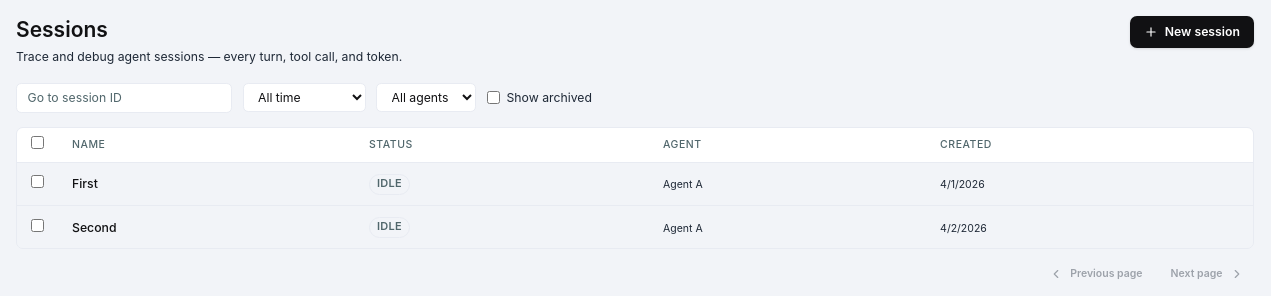
SessionsListPage › selectAll checks every row and Archive N reflects the count
Expected: the text "First" is shown, [72, 176, 98, 191]
What coordinates should you click on to do the following:
click the checkbox named "Select all rows"
I would click on:
 (38, 143)
Its box is [31, 136, 44, 149].
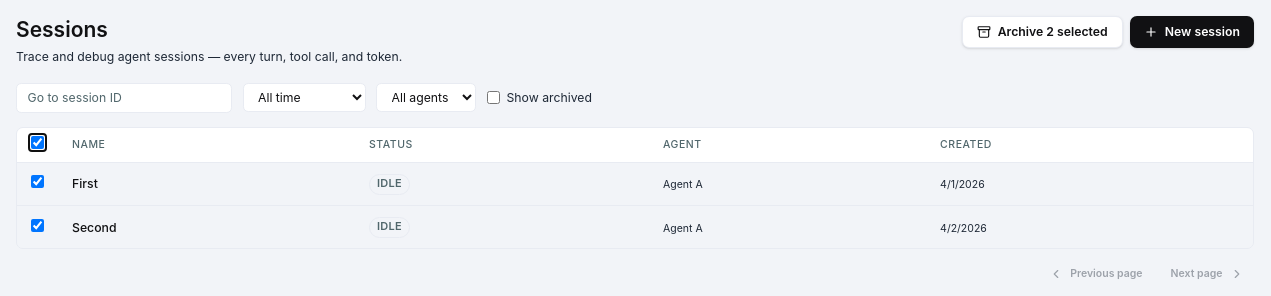
Result: the button "Archive 2 selected" is shown at [962, 16, 1123, 48]
